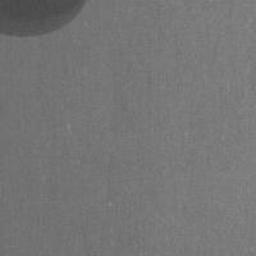Oil spot: (0, 0, 85, 37)
